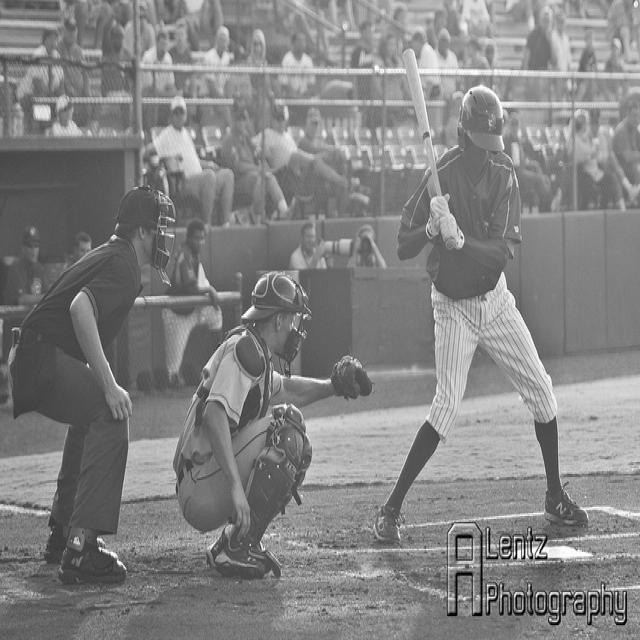monkey: (1, 0, 639, 323), (369, 83, 589, 544), (8, 181, 178, 583), (171, 271, 373, 578), (144, 94, 237, 228), (162, 218, 224, 393), (251, 103, 351, 196), (566, 113, 639, 213), (612, 86, 640, 182), (59, 25, 88, 113), (289, 219, 327, 272), (299, 107, 340, 153), (347, 224, 388, 269), (504, 112, 527, 179)
